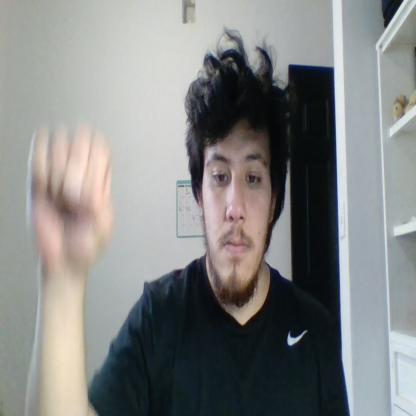S: (26, 126, 114, 266)
